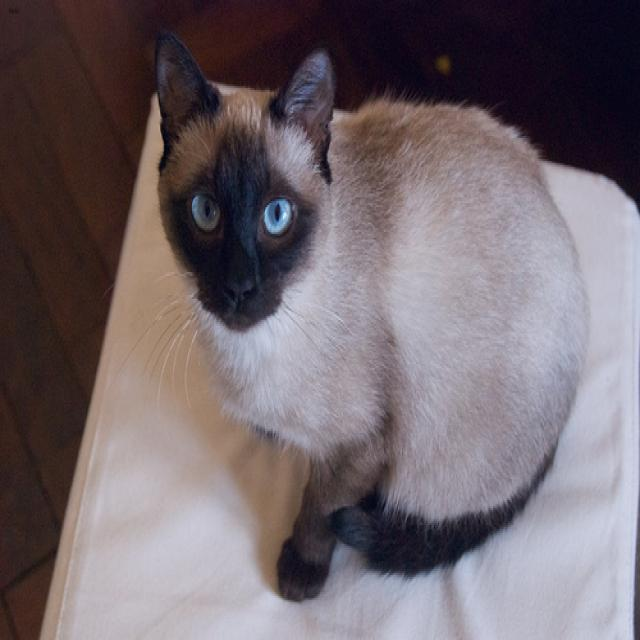Siamese: (154, 27, 334, 330)
